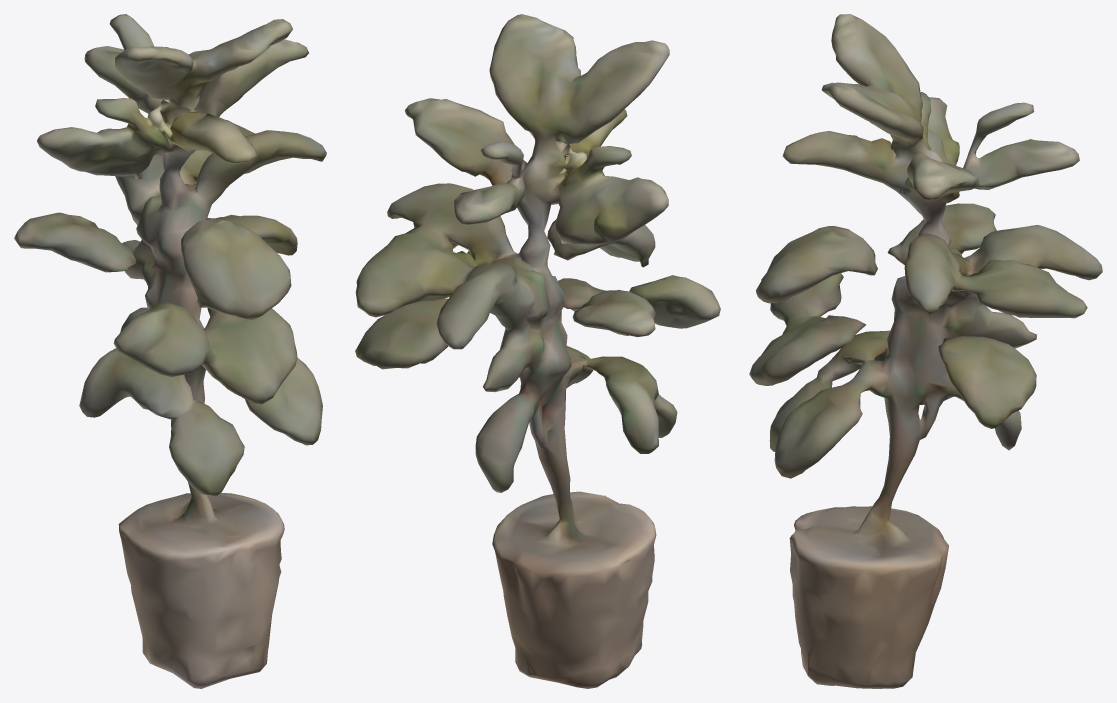
The model's file is triposr_fig_lod0_TEST_ONLY.glb.
3 views of the same model, side by side, from view 1: azimuth 30°, elevation 25°; view 2: azimuth 150°, elevation 25°; view 3: azimuth 270°, elevation 25° (orthographic). The views are drawn at different scales.
Parts seen in each view (by area): view 1: geometry_0.001; view 2: geometry_0.001; view 3: geometry_0.001.
Boxes of the visible parts, <box> form: geometry_0.001: <box>14,14,326,688</box>; geometry_0.001: <box>355,14,720,688</box>; geometry_0.001: <box>749,14,1102,688</box>.
Bounding box in the file's own units: 0.6111 × 1.3 × 0.6711.
